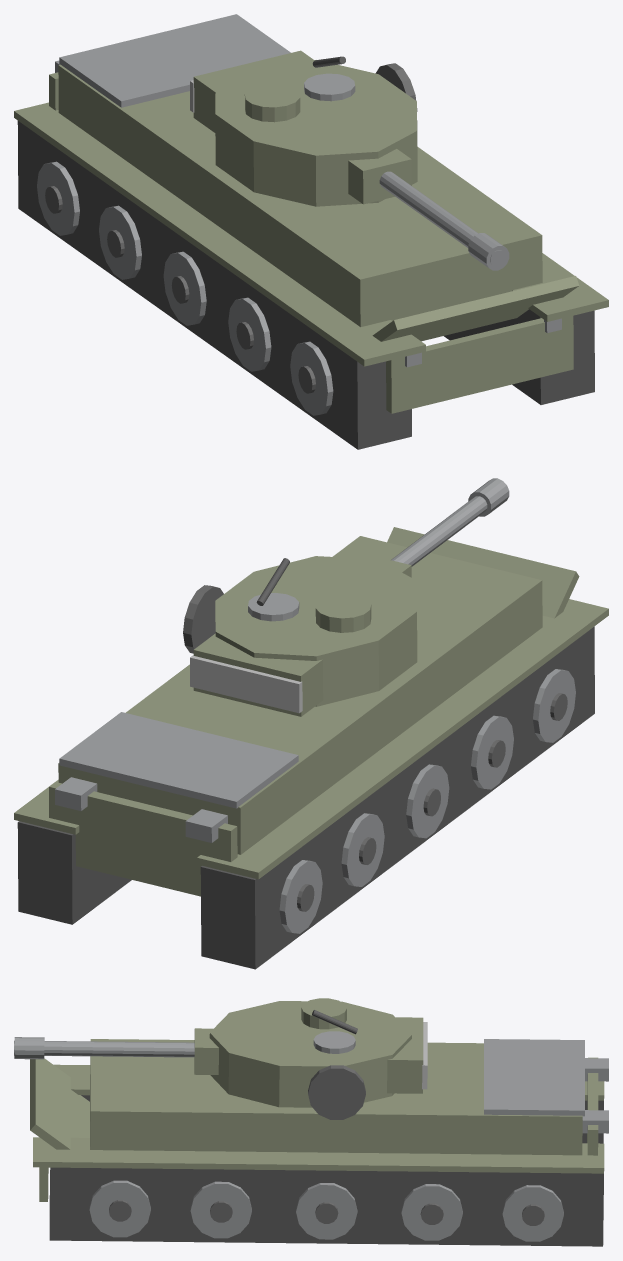
Rendered from tank_medium.glb.
The picture shows the model from 3 angles, top to bottom: view 1: azimuth 30°, elevation 25°; view 2: azimuth 150°, elevation 25°; view 3: azimuth 270°, elevation 25°; orthographic projection. The views are drawn at different scales.
Visible parts, largest first — view 1: Hull, Track, TurretBody, Fender, DeckRear, NosePlate, Glacis, Track.001, Barrel, Mantlet, Fender.001, Wheel.001 (+9 smaller); view 2: Hull, Track, TurretBody, Fender, DeckRear, RearPlate, Track.001, Glacis, FactionBand, Bustle, Wheel.001, Wheel (+11 smaller); view 3: Hull, Track.001, TurretBody, Fender.001, DeckRear, Glacis, SpareWheel, Wheel.005, Wheel.006, Wheel.009, Wheel.008, Wheel.007 (+17 smaller).
Part boxes in pixels (<box>): Hull: <box>58,64,542,327</box>; Track: <box>17,121,411,449</box>; TurretBody: <box>215,60,417,206</box>; Fender: <box>14,102,425,366</box>; DeckRear: <box>59,14,290,107</box>; NosePlate: <box>386,316,573,413</box>; Glacis: <box>372,276,579,341</box>; Track.001: <box>444,309,594,404</box>; Barrel: <box>379,171,505,266</box>; Mantlet: <box>348,149,411,204</box>; Fender.001: <box>512,253,608,321</box>; Wheel.001: <box>228,297,271,371</box>; Hull: <box>58,536,542,854</box>; Track: <box>200,626,594,969</box>; TurretBody: <box>215,556,417,706</box>; Fender: <box>197,599,608,879</box>; DeckRear: <box>59,712,298,808</box>; RearPlate: <box>49,782,237,896</box>; Track.001: <box>17,821,131,924</box>; Glacis: <box>387,527,579,618</box>; FactionBand: <box>190,655,302,713</box>; Bustle: <box>193,633,323,716</box>; Wheel.001: <box>471,715,513,789</box>; Wheel: <box>533,669,575,742</box>; Hull: <box>90,1039,582,1155</box>; Track.001: <box>49,1167,603,1246</box>; TurretBody: <box>209,1001,411,1107</box>; Fender.001: <box>33,1137,604,1173</box>; DeckRear: <box>484,1039,584,1116</box>; Glacis: <box>30,1058,89,1149</box>; SpareWheel: <box>308,1065,365,1119</box>; Wheel.005: <box>89,1180,150,1237</box>; Wheel.006: <box>190,1181,251,1238</box>; Wheel.009: <box>502,1185,563,1241</box>; Wheel.008: <box>401,1184,462,1240</box>; Wheel.007: <box>296,1183,357,1239</box>.
Size of the model in its own units: 2.74 by 2.52 by 6.77.
